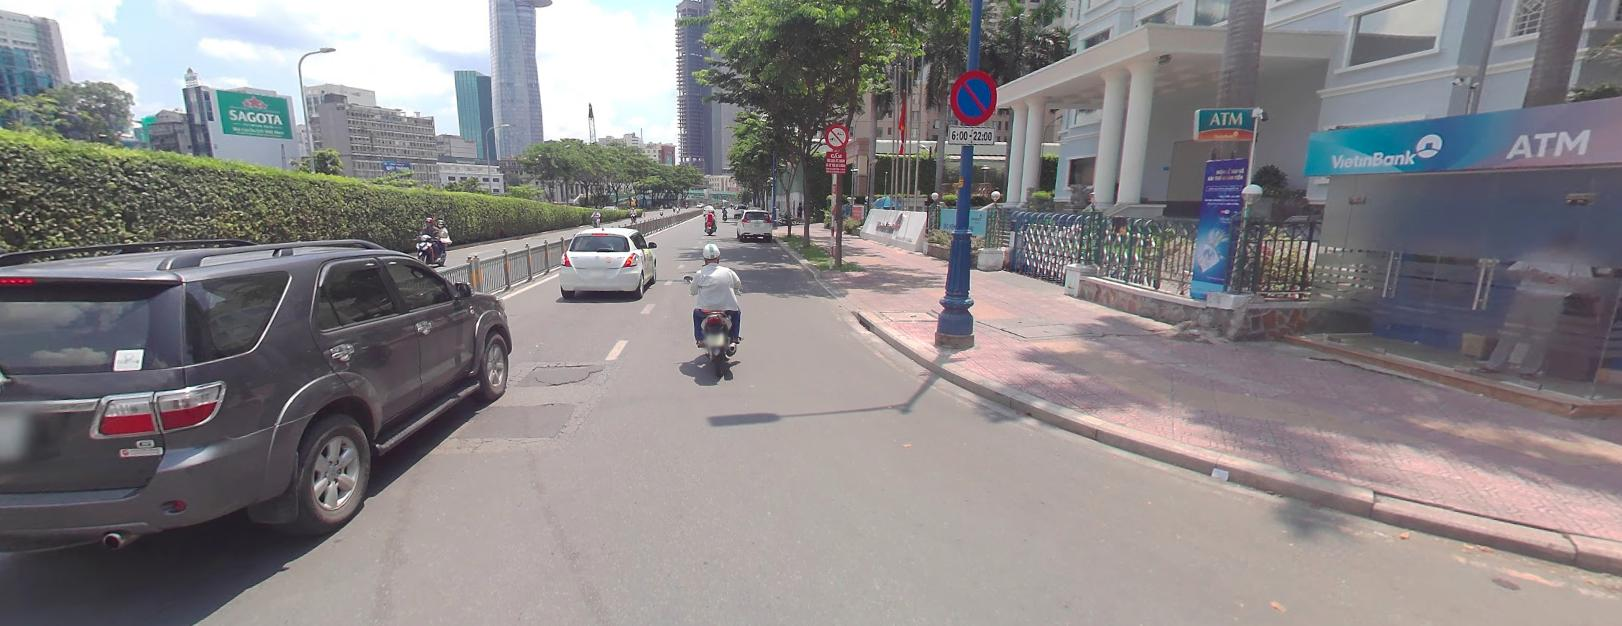Cam con lai: (824, 122, 849, 148)
Cam dung va do: (948, 68, 997, 125)
